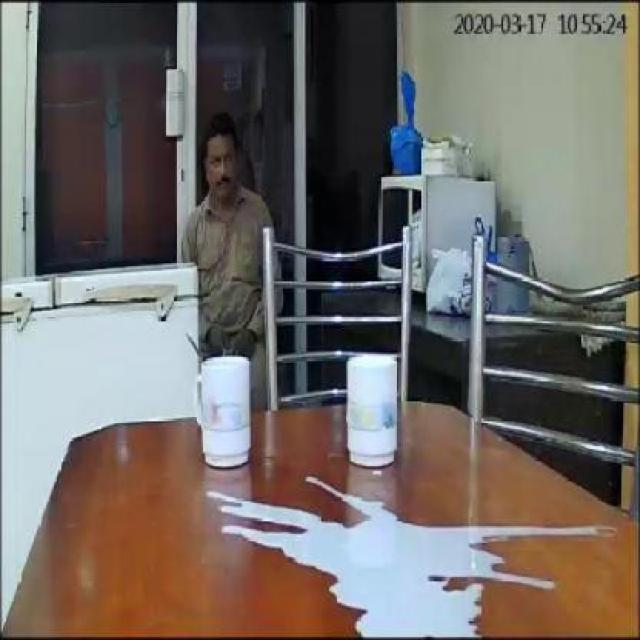spillage: (206, 492, 595, 640)
